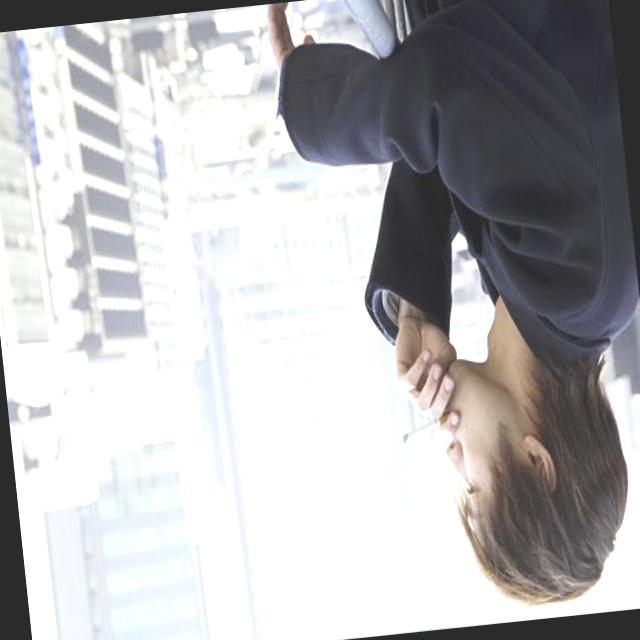cigarette: (399, 420, 440, 444)
